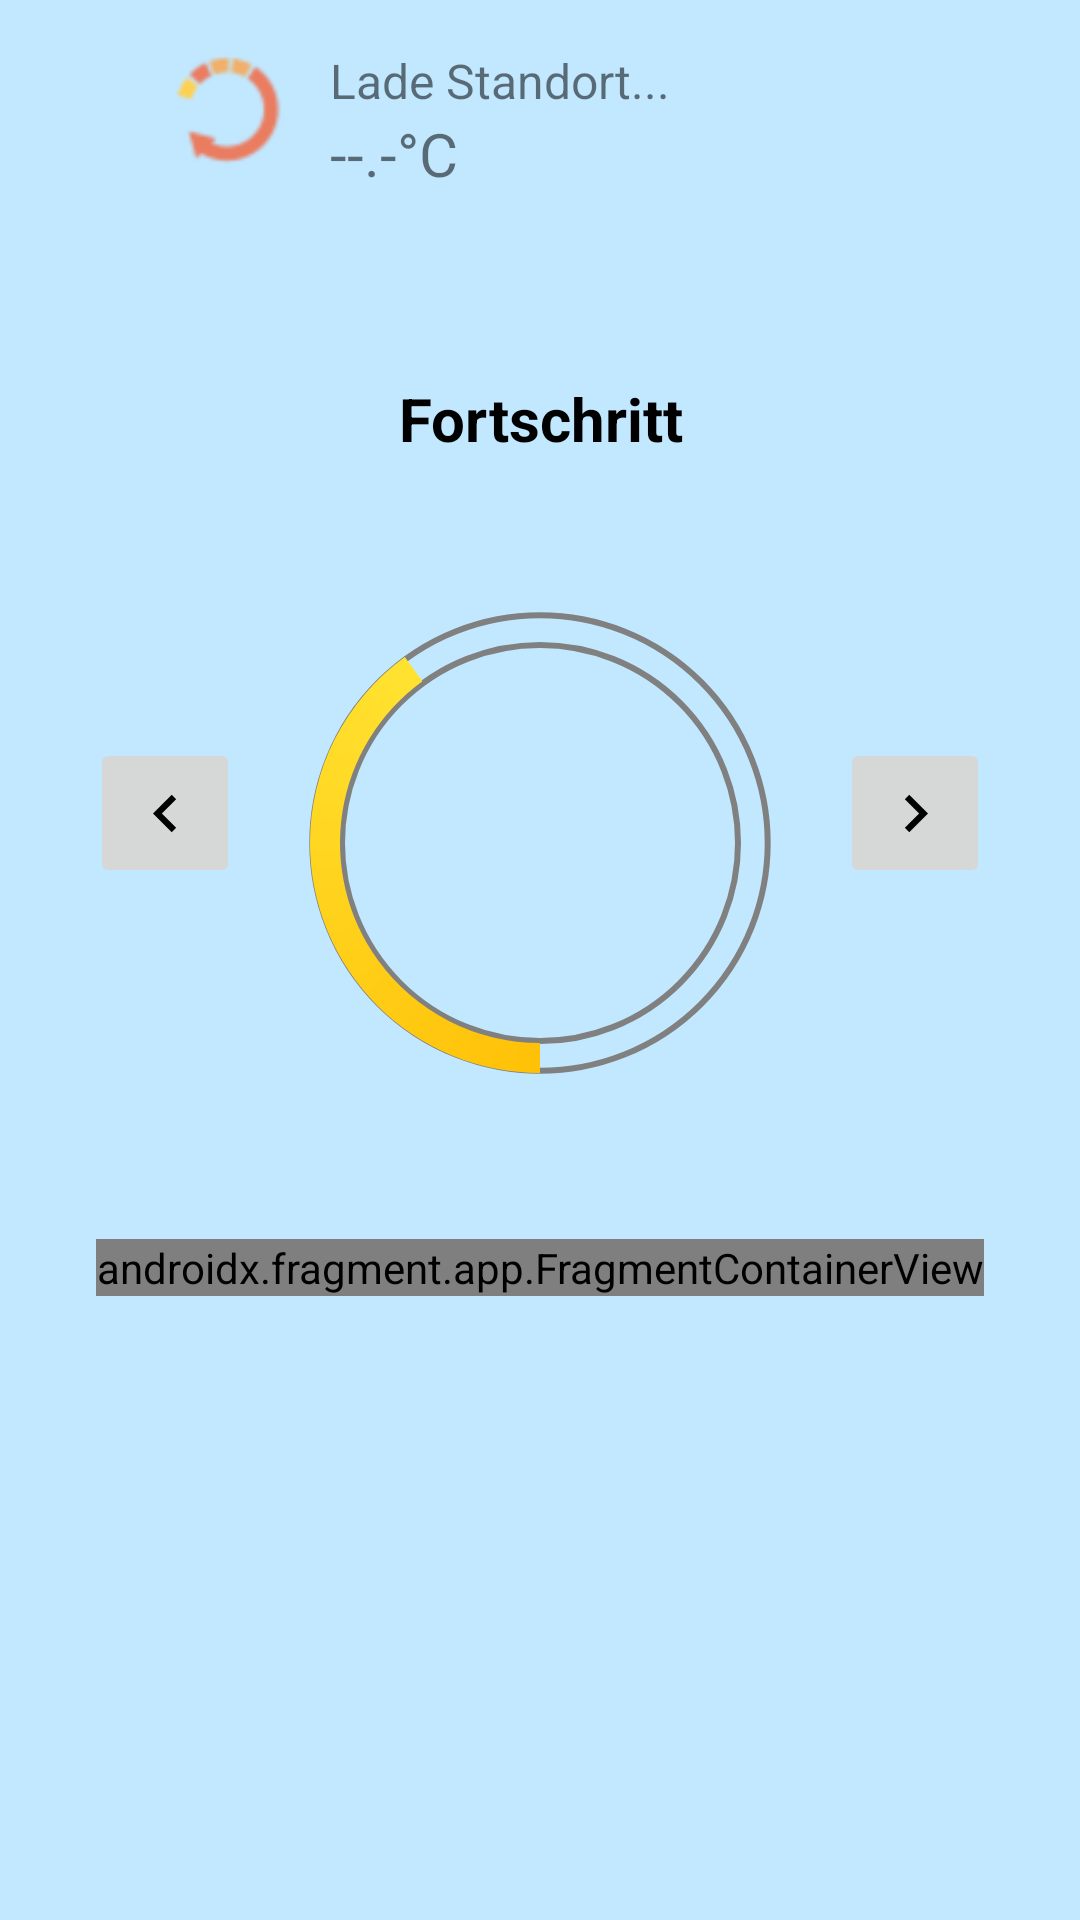

Screen size 1080 × 1920. Icon name, then its center in pixels as (x,y):
Pfeil Home links: (165,813)
Pfeil Home rechts: (915,813)
